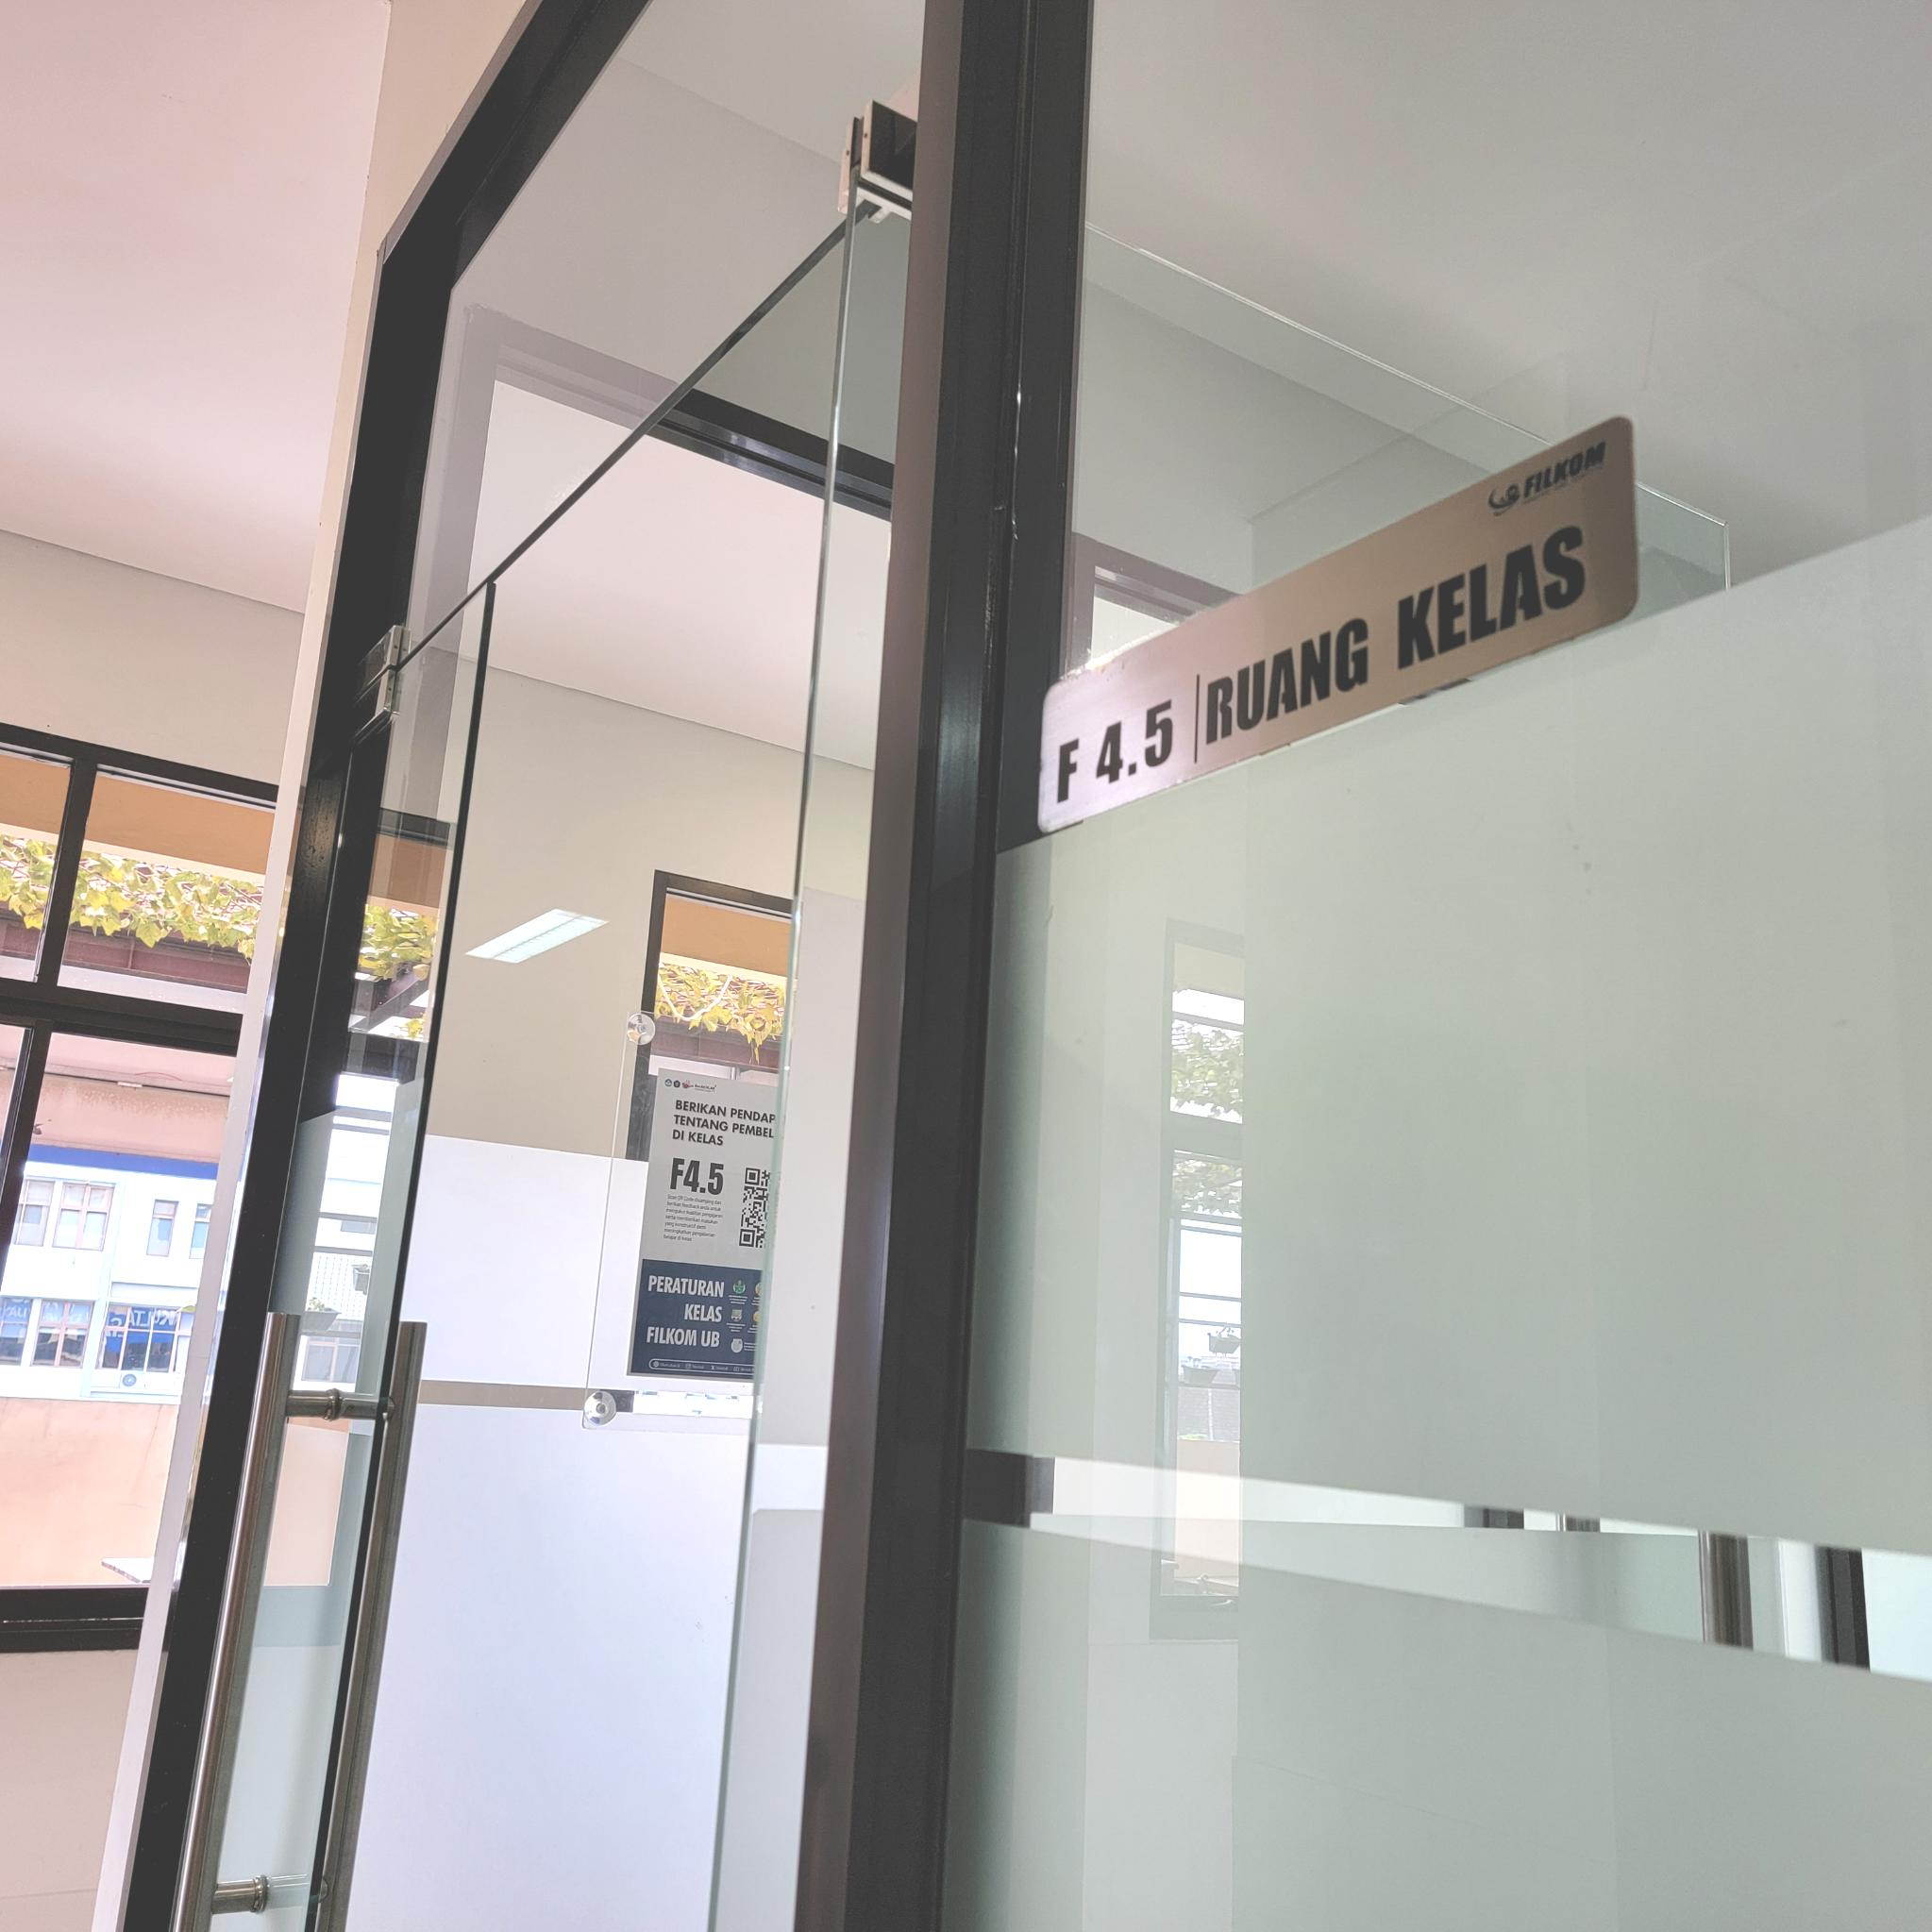plate: (1035, 412, 1644, 839)
